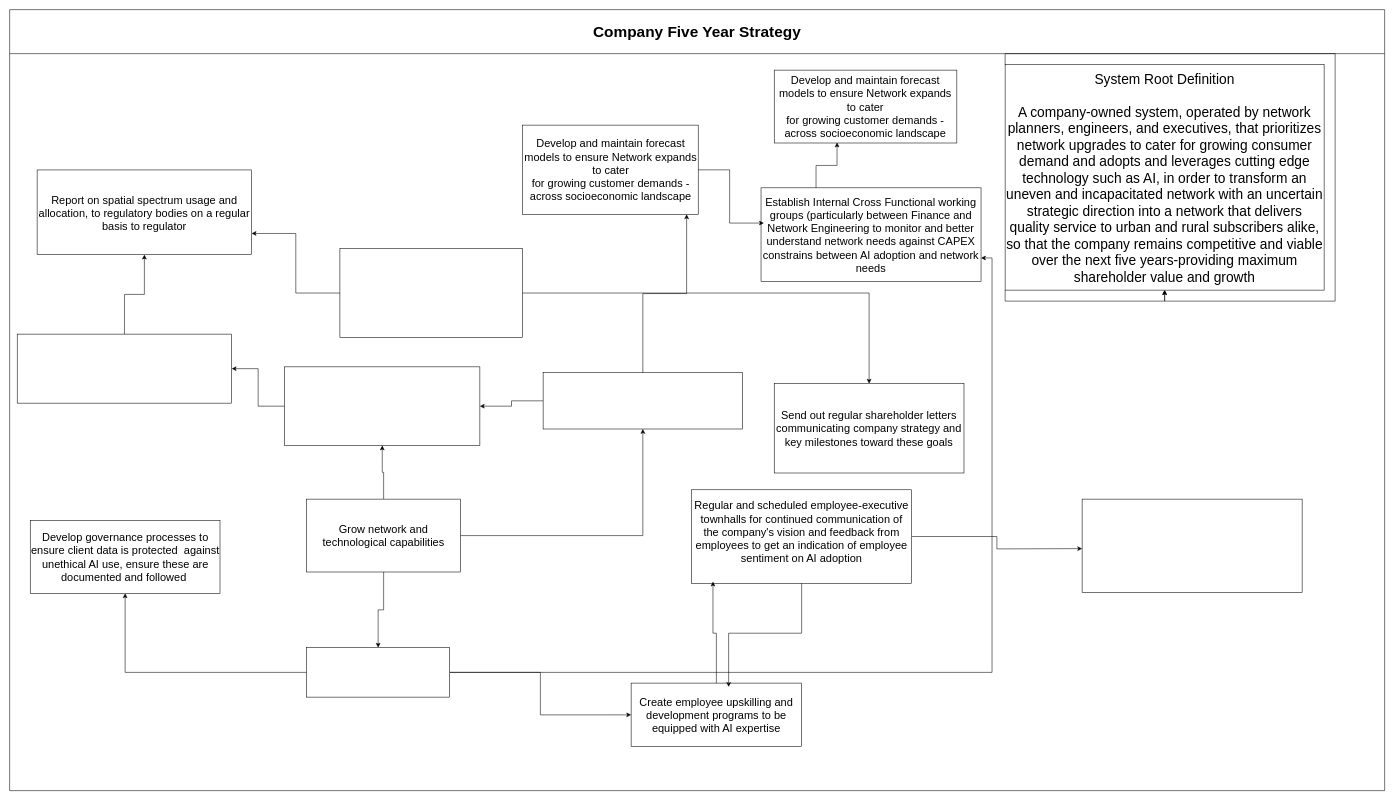
This 1394x800 diagram has some shape labels left out. Each missing label, with the box of its shape:
Acquire additional spectrum from regulator to support network expansion efforts: (284, 366, 480, 446)
Adopt AI to streamline processes and operations: (306, 647, 450, 697)
Assess current network performance and capacity: (543, 372, 743, 429)
Create environment of open communication and stakeholder buy-in: (339, 248, 522, 338)
Ensure fair and equitable use of acquired expanded spectrum from regulator: (17, 334, 232, 403)
Monitor and evaluate feedback and key points from townhall: (1082, 499, 1302, 593)
